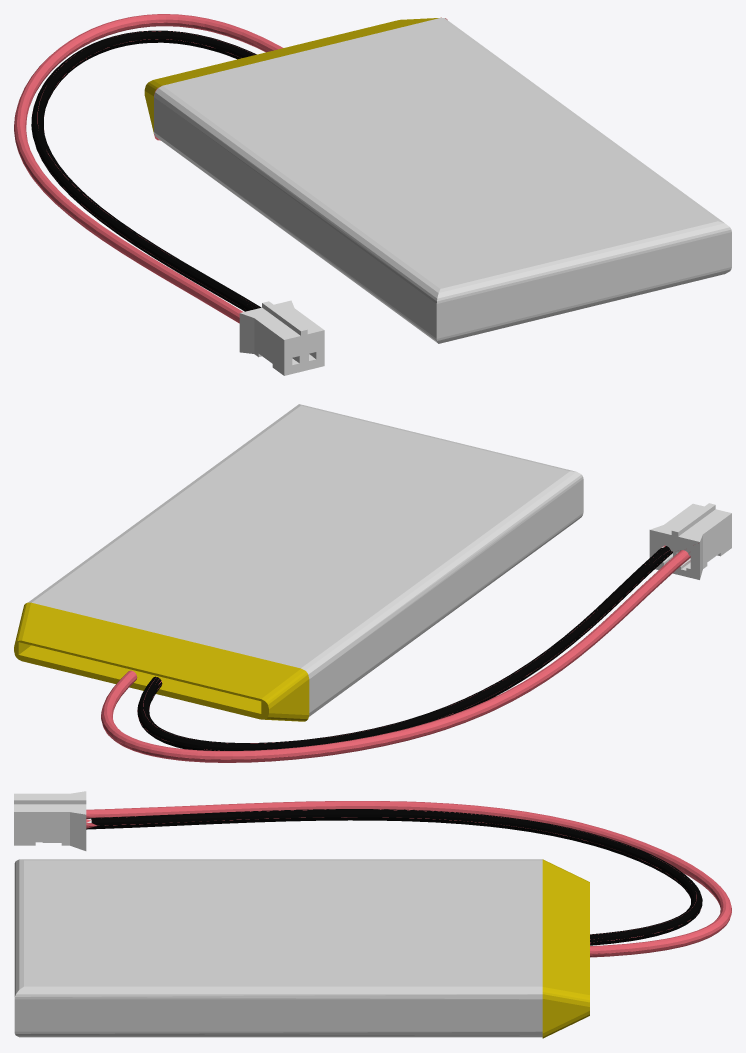
3 renders of one model, top to bottom at view 1: azimuth 30°, elevation 25°; view 2: azimuth 150°, elevation 25°; view 3: azimuth 270°, elevation 25°, orthographic. The views are drawn at different scales.
Parts seen in each view (by area): view 1: _39; view 2: _39; view 3: _39.
Part boxes in pixels (x1,y1,x2,y2): _39: [14, 14, 731, 375]; _39: [14, 404, 731, 762]; _39: [14, 791, 731, 1038].
Bounding box in the file's own units: 52.44 × 75.6 × 5.94.
